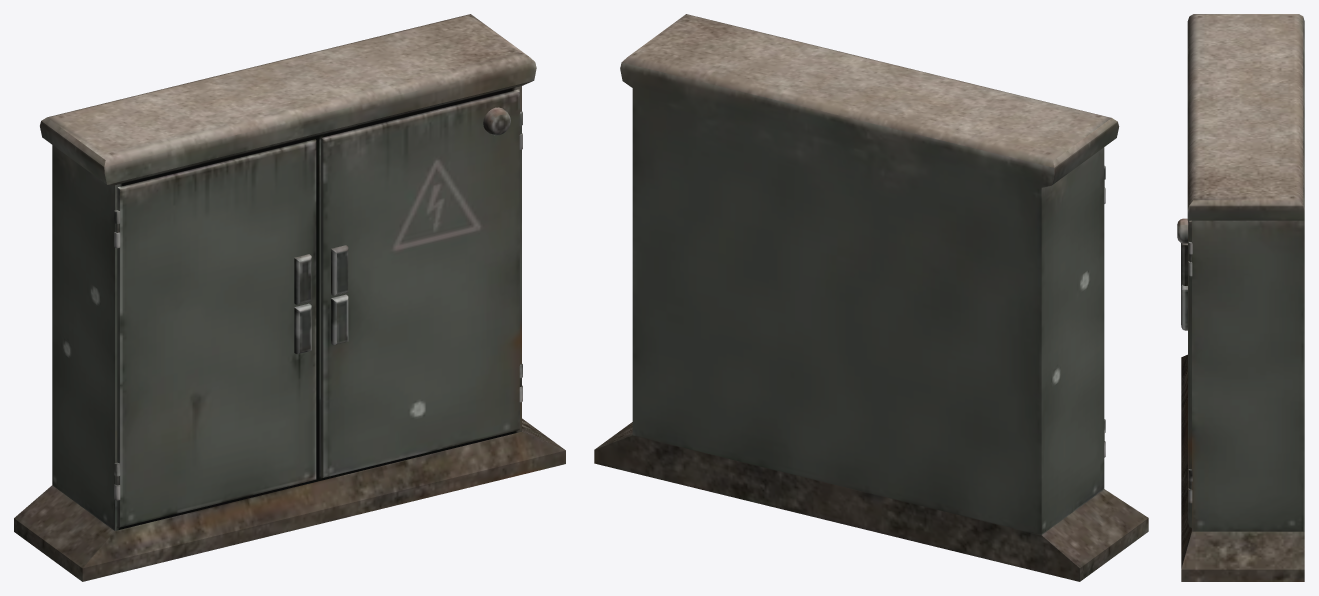
The model's file is cabinet.glb.
3 views of the same model, side by side, from view 1: azimuth 30°, elevation 25°; view 2: azimuth 150°, elevation 25°; view 3: azimuth 270°, elevation 25° (orthographic). The views are drawn at different scales.
Parts seen in each view (by area): view 1: g; view 2: g; view 3: g.
Part boxes in pixels (bbox=[...]): g: bbox=[14, 14, 565, 581]; g: bbox=[594, 14, 1148, 581]; g: bbox=[1177, 14, 1304, 581].
Bounding box in the file's own units: 1.72 × 1.4 × 0.4369.
Materials: 1 (1 with a texture image).
